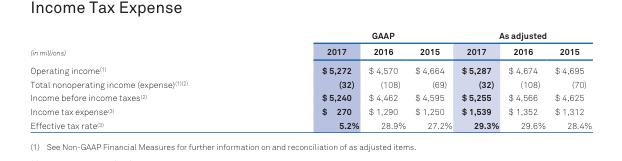table: (29, 29, 591, 130)
table column: (29, 29, 254, 130), (254, 29, 363, 130), (409, 29, 456, 130), (456, 29, 503, 130), (363, 29, 409, 130), (503, 29, 549, 130), (549, 29, 591, 130)
table column header: (29, 29, 591, 60)
table row: (29, 43, 591, 60), (29, 60, 591, 76), (29, 29, 591, 43), (29, 76, 591, 90), (29, 90, 591, 104), (29, 104, 591, 118), (29, 118, 591, 130)
table spanning cell: (29, 29, 254, 60), (254, 29, 456, 43), (456, 29, 591, 43)
